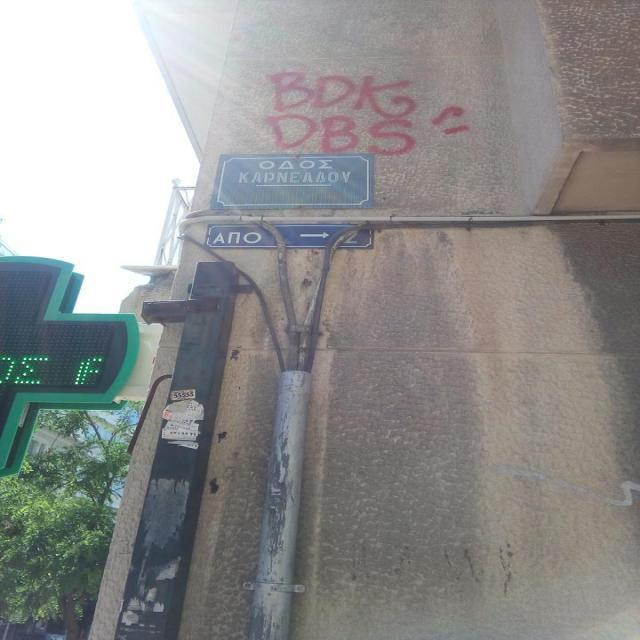nonspitting: (268, 70, 468, 156)
